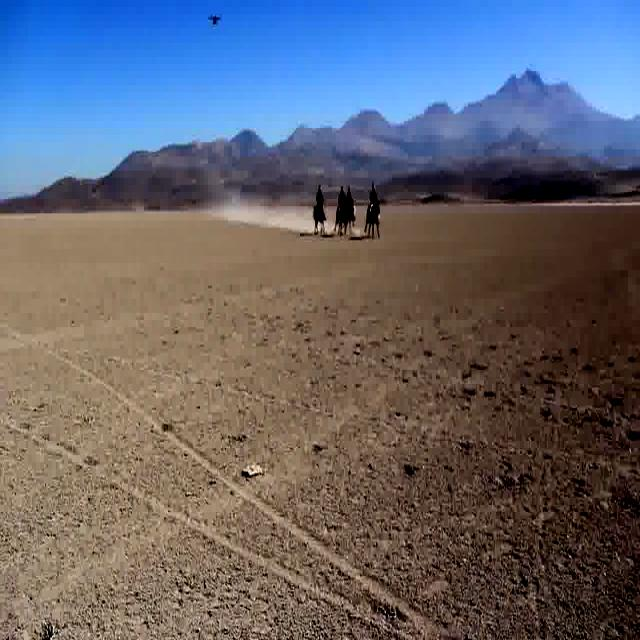drone: (206, 6, 224, 33)
